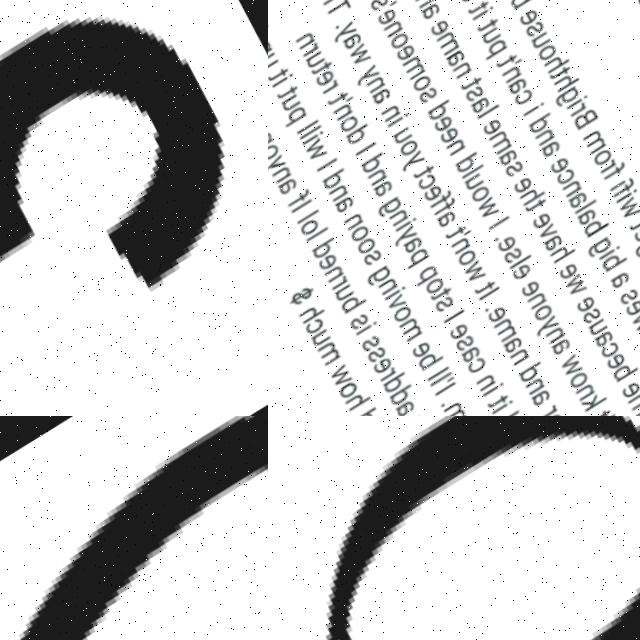3: (0, 0, 268, 416)
A: (279, 177, 304, 200), (446, 50, 472, 72), (421, 2, 445, 25), (470, 97, 495, 119), (439, 212, 464, 234), (342, 32, 367, 54), (580, 211, 604, 233), (601, 333, 625, 355), (407, 237, 431, 259), (376, 180, 400, 202), (538, 392, 563, 413), (615, 275, 639, 296), (571, 196, 595, 217), (501, 151, 525, 172), (373, 89, 397, 110), (337, 196, 361, 217), (543, 143, 566, 164), (509, 80, 532, 101), (558, 341, 581, 362), (509, 339, 533, 359), (467, 349, 491, 368), (549, 237, 571, 257), (401, 401, 425, 416)
B: (604, 253, 635, 280), (575, 111, 604, 136), (346, 293, 375, 318), (587, 219, 616, 243), (424, 351, 453, 375), (618, 363, 640, 389), (508, 0, 539, 15)
C: (606, 344, 631, 367), (473, 358, 498, 380), (309, 318, 334, 340), (420, 175, 444, 196), (559, 171, 582, 192), (515, 91, 538, 112)
D: (0, 416, 268, 640), (524, 364, 555, 391), (531, 115, 560, 141), (390, 373, 418, 399), (316, 238, 345, 263), (458, 154, 486, 179), (364, 154, 392, 179), (348, 125, 376, 150), (326, 169, 354, 194), (397, 386, 426, 410), (430, 101, 458, 125), (361, 408, 389, 416), (268, 24, 275, 49)
E: (425, 185, 451, 208), (516, 265, 541, 288), (454, 324, 478, 347), (483, 120, 508, 142), (525, 282, 550, 304), (396, 45, 421, 67), (376, 8, 401, 30), (492, 309, 517, 331), (552, 160, 576, 182), (535, 215, 559, 237), (429, 20, 453, 42), (501, 237, 525, 259), (435, 116, 459, 138), (417, 343, 441, 365), (379, 358, 403, 380), (322, 253, 346, 275), (518, 11, 542, 32), (582, 299, 606, 320), (517, 179, 541, 200), (315, 70, 339, 91), (563, 266, 586, 287), (442, 128, 465, 149), (613, 357, 637, 377), (626, 384, 640, 406), (630, 303, 640, 324)
F: (605, 165, 634, 187), (433, 192, 460, 213), (290, 190, 317, 211), (436, 201, 463, 221), (616, 184, 640, 204)
G: (556, 89, 585, 114), (591, 241, 620, 266), (381, 197, 410, 222), (371, 267, 399, 291)
H: (305, 303, 335, 328), (353, 390, 381, 416), (523, 187, 552, 212), (555, 74, 584, 98), (546, 55, 574, 79), (556, 246, 583, 269), (319, 0, 347, 8)
I: (390, 287, 415, 306), (273, 73, 298, 91), (451, 311, 475, 329), (613, 182, 638, 199), (568, 99, 593, 116), (358, 142, 383, 159), (605, 250, 629, 267), (525, 105, 549, 122), (472, 8, 496, 25), (389, 114, 413, 131), (398, 220, 422, 237), (305, 131, 329, 148), (484, 289, 508, 306), (490, 386, 514, 402), (362, 323, 385, 339), (320, 159, 343, 175), (494, 218, 516, 234), (294, 200, 316, 216), (442, 385, 465, 400), (620, 193, 640, 210), (499, 403, 522, 416)
K: (587, 394, 617, 416)
L: (302, 126, 327, 143), (580, 203, 604, 220), (480, 106, 504, 123), (515, 258, 538, 274), (438, 375, 461, 391), (435, 369, 458, 385), (312, 228, 335, 244), (302, 211, 325, 227), (466, 168, 489, 184), (300, 121, 323, 136)
M: (498, 320, 527, 348), (323, 342, 352, 370), (584, 134, 612, 161), (491, 133, 519, 160), (437, 33, 465, 60), (405, 319, 433, 346), (403, 57, 430, 84), (451, 403, 478, 416)
N: (383, 21, 408, 43), (366, 76, 391, 98), (453, 63, 477, 85), (565, 183, 589, 204), (516, 350, 540, 371), (455, 239, 479, 260), (334, 104, 358, 125), (274, 166, 298, 187), (532, 295, 556, 316), (503, 68, 526, 89), (552, 329, 575, 350), (449, 140, 472, 161), (371, 169, 394, 190), (295, 32, 318, 53), (348, 213, 371, 234), (331, 184, 354, 205), (483, 377, 506, 397), (584, 388, 606, 408), (533, 381, 555, 401), (383, 106, 405, 126), (393, 210, 415, 230), (384, 280, 406, 300), (330, 266, 352, 286), (538, 131, 559, 151), (415, 0, 438, 12), (268, 130, 279, 151), (268, 40, 276, 61)
O: (539, 306, 563, 329), (344, 382, 368, 405), (474, 187, 499, 209), (461, 251, 486, 273), (401, 139, 426, 161), (429, 278, 454, 300), (360, 237, 385, 259), (576, 374, 600, 396), (398, 306, 422, 328), (595, 151, 619, 173), (303, 219, 327, 240), (341, 116, 364, 137), (354, 226, 377, 247), (391, 33, 413, 54), (538, 47, 561, 67), (414, 76, 437, 96), (268, 143, 285, 163)
P: (407, 248, 438, 274), (482, 40, 512, 66), (418, 267, 447, 291), (284, 106, 312, 130)
Q: (268, 416, 640, 640)
R: (602, 163, 623, 181), (336, 277, 357, 294), (322, 81, 342, 98), (302, 43, 322, 60), (386, 368, 406, 385), (571, 107, 591, 123), (547, 408, 567, 416)
S: (461, 336, 485, 358), (373, 347, 397, 369), (354, 314, 378, 336), (440, 297, 464, 318), (525, 23, 548, 44), (588, 310, 611, 331), (508, 163, 531, 184), (467, 86, 490, 107), (508, 249, 531, 270), (420, 88, 443, 109), (368, 249, 391, 270), (367, 336, 390, 357), (623, 291, 640, 313), (369, 0, 392, 15)
T: (324, 0, 354, 22), (528, 200, 555, 221), (551, 68, 576, 87), (467, 2, 492, 21), (416, 166, 441, 185), (278, 86, 303, 105), (268, 67, 293, 86), (497, 56, 521, 75), (478, 20, 502, 39), (450, 227, 474, 246), (329, 91, 353, 110), (312, 61, 336, 80), (436, 289, 461, 307), (495, 397, 518, 416), (463, 78, 485, 96), (482, 284, 504, 302), (634, 220, 640, 239), (597, 412, 621, 416)
U: (481, 29, 505, 50), (594, 321, 618, 342), (282, 94, 306, 115), (532, 35, 555, 56), (395, 129, 418, 150), (340, 285, 363, 306), (317, 330, 340, 351), (468, 175, 490, 196), (306, 52, 329, 72), (268, 52, 282, 72), (459, 0, 481, 7)
V: (542, 225, 565, 246), (393, 295, 415, 316)
W: (565, 358, 593, 385), (569, 277, 597, 304), (480, 198, 507, 225), (468, 262, 495, 289), (348, 44, 375, 71), (306, 139, 332, 165), (337, 365, 362, 391), (621, 201, 640, 227)
Y: (355, 64, 386, 90), (331, 21, 361, 46), (396, 226, 425, 251), (539, 319, 568, 343), (403, 153, 432, 177), (268, 154, 291, 179)
